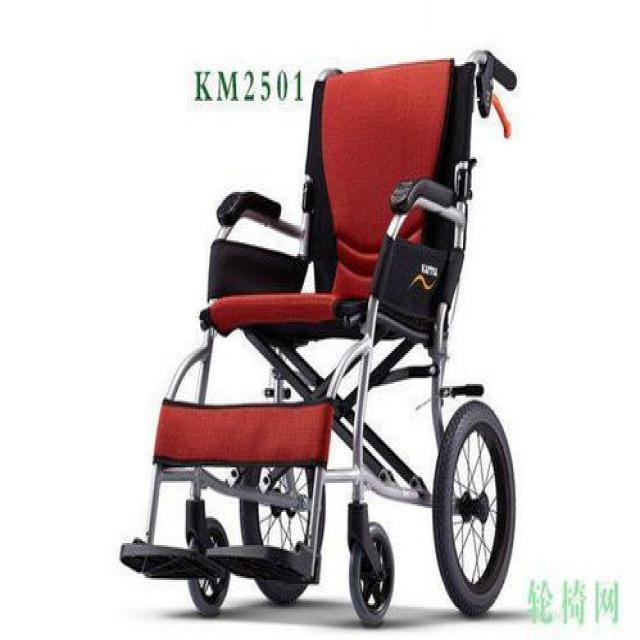wheelchair: (113, 33, 544, 638)
